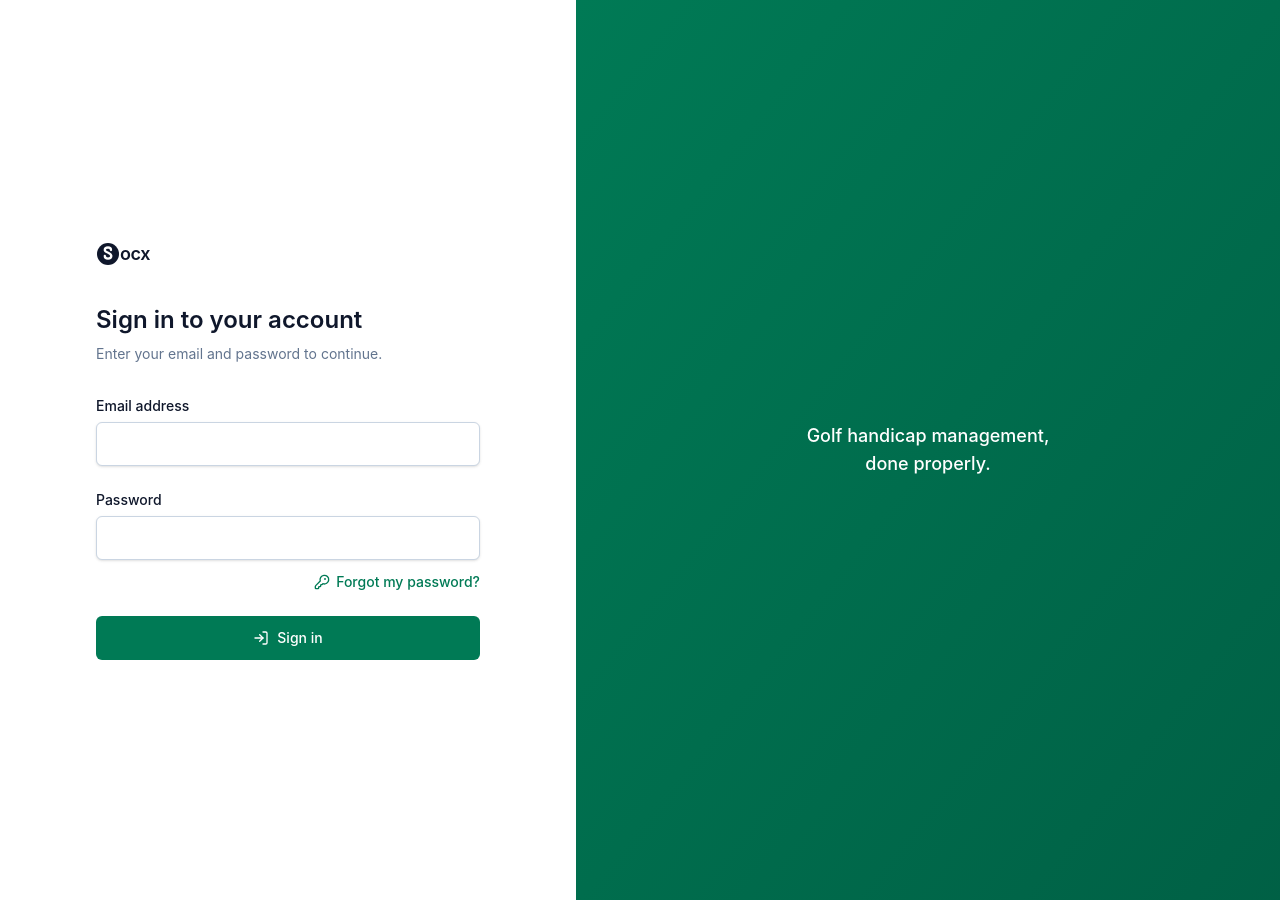
LoginPage › Forgot my password? navigates to the real request-reset page (ghs#107)
Click the link "Forgot my password?": (397, 582) [314, 572, 480, 592]
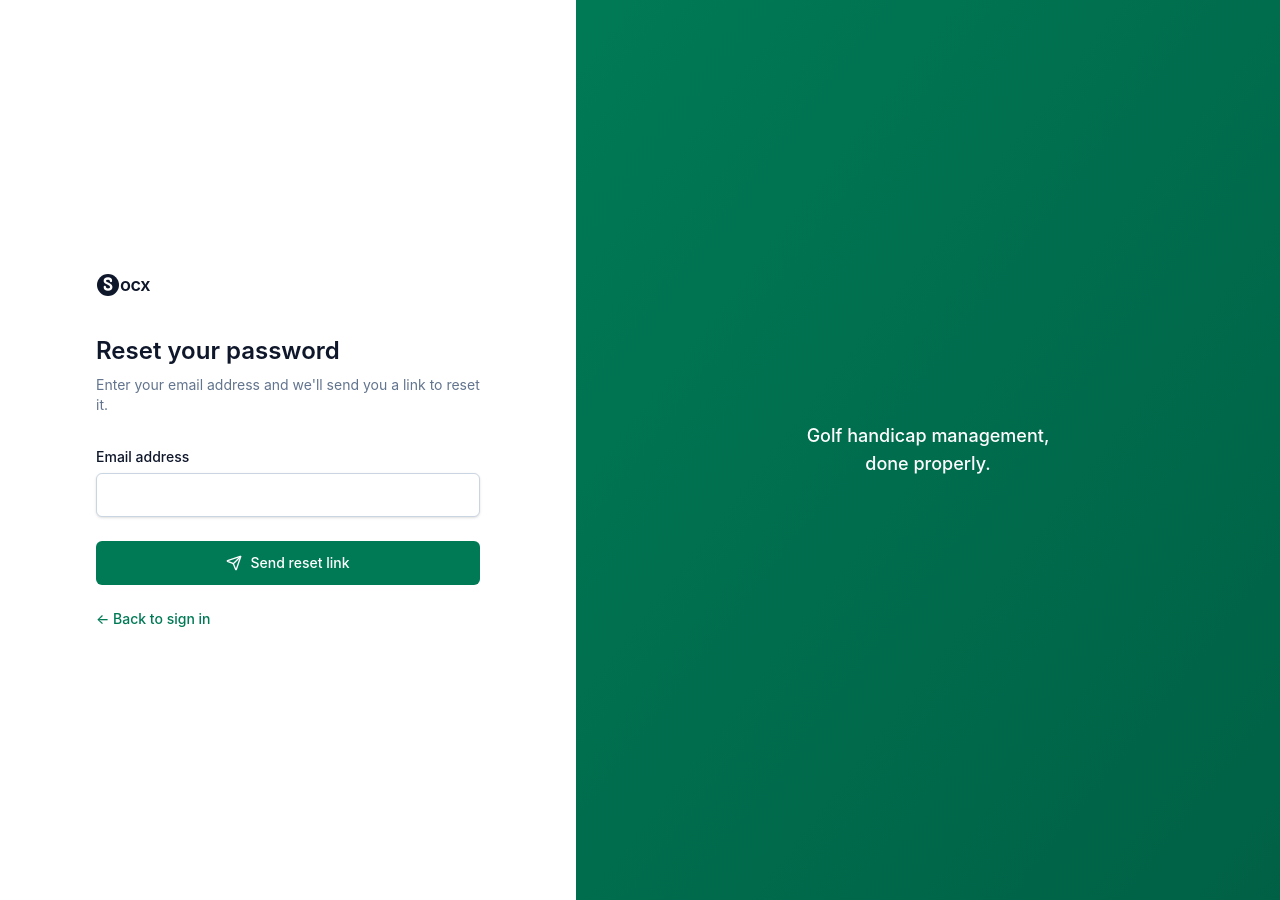
Now the heading "Reset your password" is shown, box [96, 336, 340, 364]
